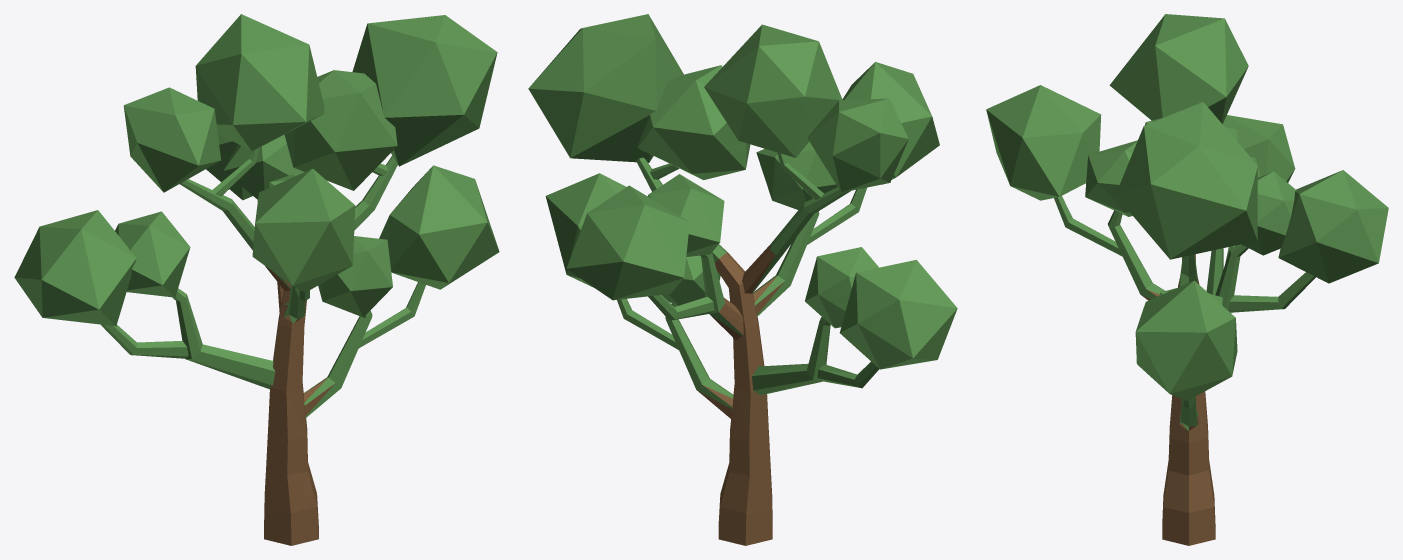
File: tree3d-068.glb
3 renders of one model, left to right at view 1: azimuth 30°, elevation 25°; view 2: azimuth 150°, elevation 25°; view 3: azimuth 270°, elevation 25°, orthographic. The views are drawn at different scales.
Visible parts, largest first — view 1: tree3d-068; view 2: tree3d-068; view 3: tree3d-068.
Part boxes in pixels (x1=…): tree3d-068: x1=14, y1=14, x2=499, y2=545; tree3d-068: x1=528, y1=14, x2=957, y2=545; tree3d-068: x1=986, y1=14, x2=1388, y2=545.
Bounding box in the file's own units: 0.8777 × 1 × 0.7308.
